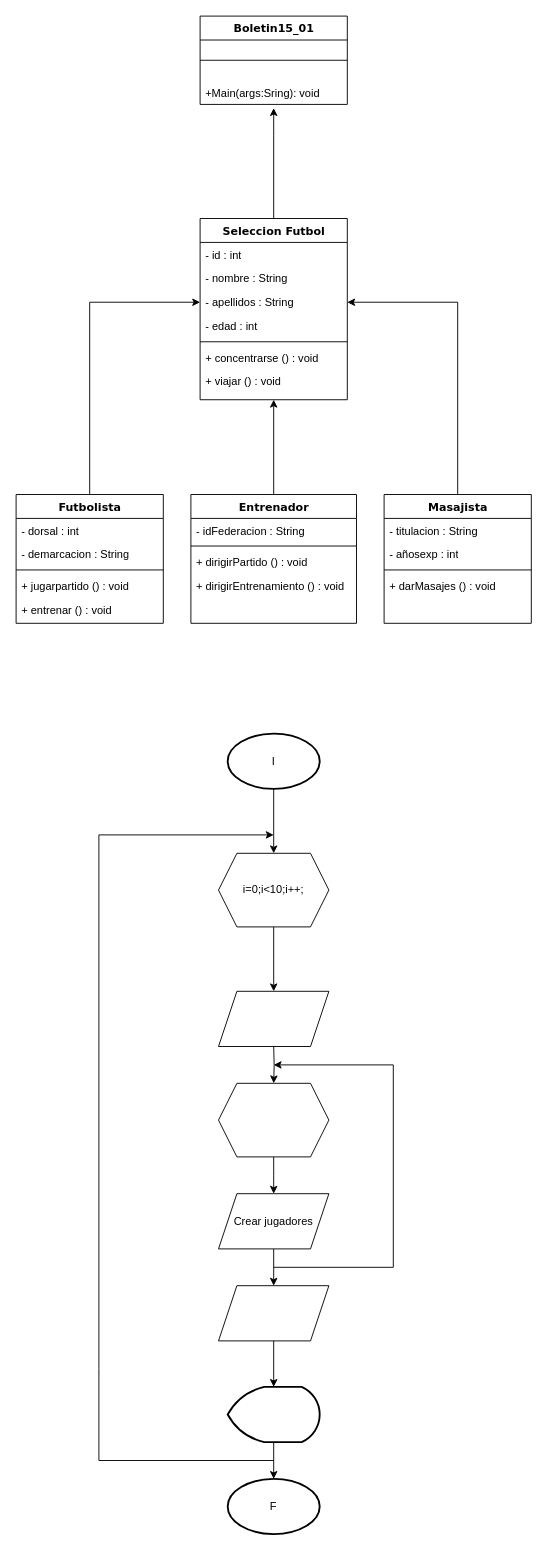
This 547x1551 diagram has some shape labels left out. Here are the shapes that lost their labels. From the top down, the centre of each, then its label:
At (x=273, y=1018): "Pedir nombres de equipos".
At (x=273, y=1119): "j=0;j<22;j++;".
At (x=273, y=1313): "Crear masajista".
At (x=273, y=1414): "Datos equipos".
